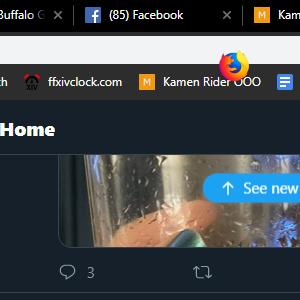firefox: (219, 49, 250, 81)
